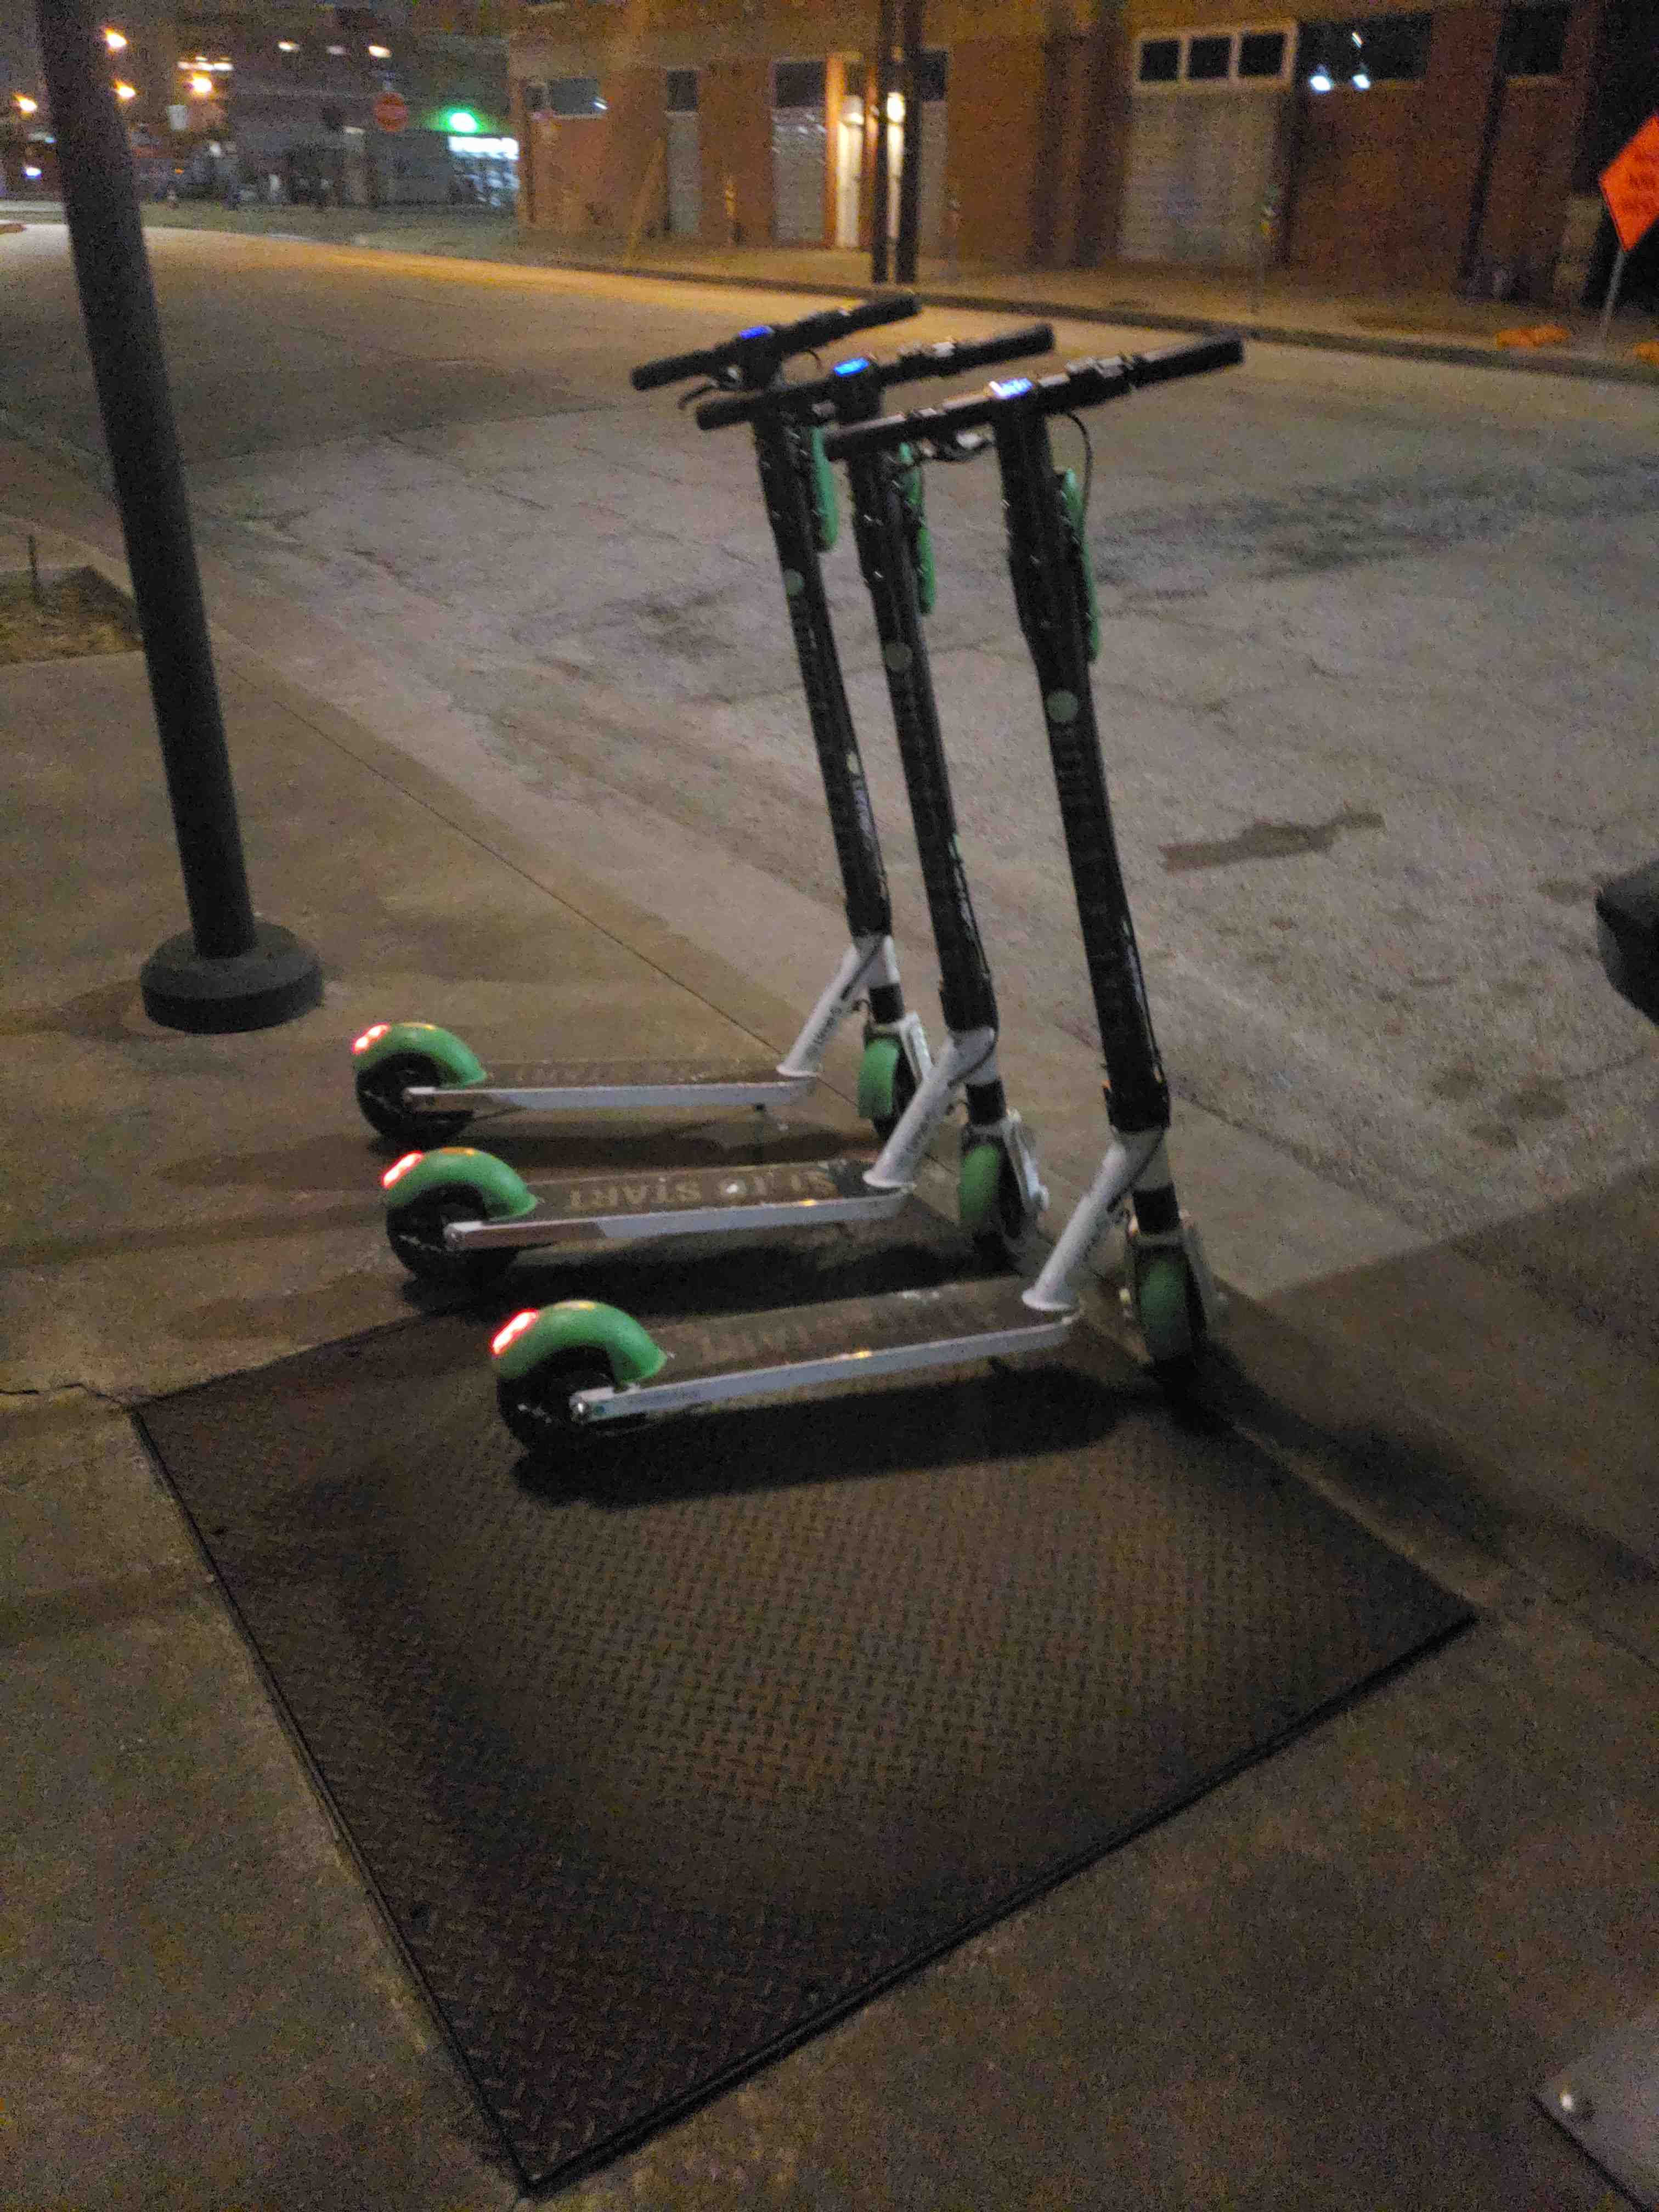too close: (1070, 1209, 1337, 1460), (788, 975, 988, 1181), (910, 1101, 1119, 1271)
